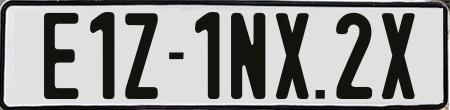1: (195, 9, 223, 101), (87, 10, 114, 98)
2: (333, 11, 371, 101)
E: (41, 11, 76, 100)
N: (229, 11, 264, 99)
X: (274, 13, 309, 105), (380, 10, 413, 102)
Z: (125, 13, 162, 99)
